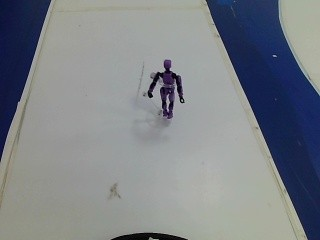pedestrian: (145, 58, 183, 118)
